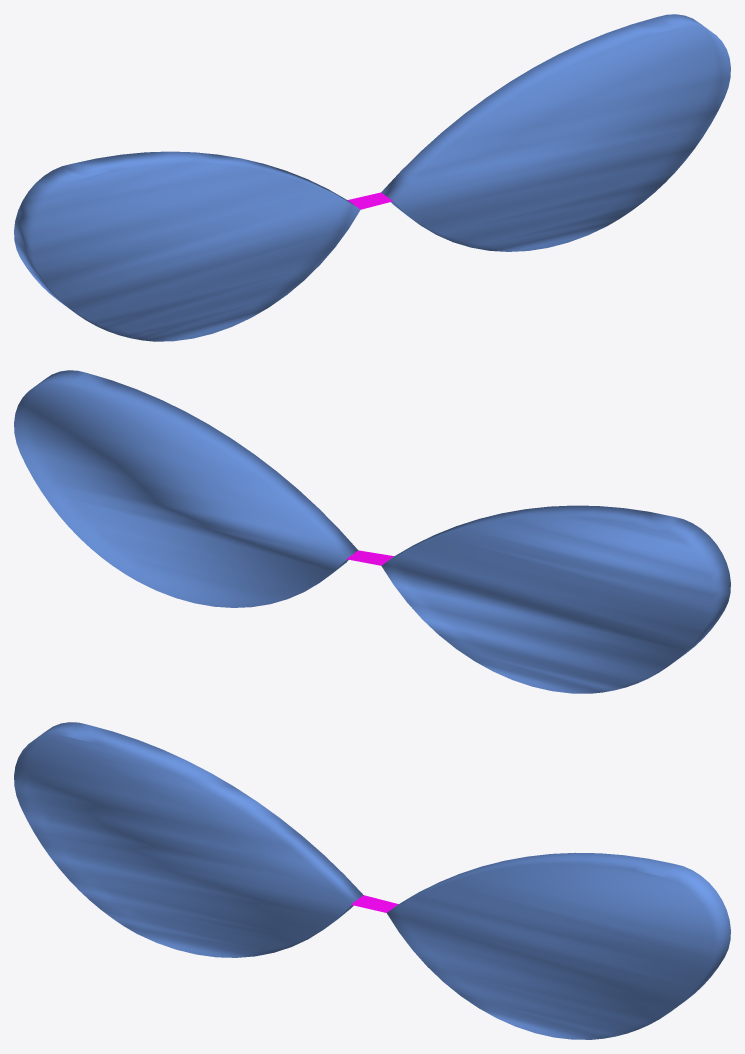
The model's file is original-1.obj.
The picture shows the model from 3 angles, top to bottom: view 1: azimuth 30°, elevation 25°; view 2: azimuth 150°, elevation 25°; view 3: azimuth 330°, elevation 25°; orthographic projection.
Parts seen in each view (by area): view 1: mesh1/mesh1-geometry#mesh1-geometry; view 2: mesh1/mesh1-geometry#mesh1-geometry; view 3: mesh1/mesh1-geometry#mesh1-geometry.
Part boxes in pixels (x1=…): mesh1/mesh1-geometry#mesh1-geometry: x1=14, y1=14, x2=730, y2=341; mesh1/mesh1-geometry#mesh1-geometry: x1=14, y1=370, x2=730, y2=693; mesh1/mesh1-geometry#mesh1-geometry: x1=14, y1=722, x2=730, y2=1039.
Size of the model in its own units: 1.33 by 0.3461 by 0.0604.
